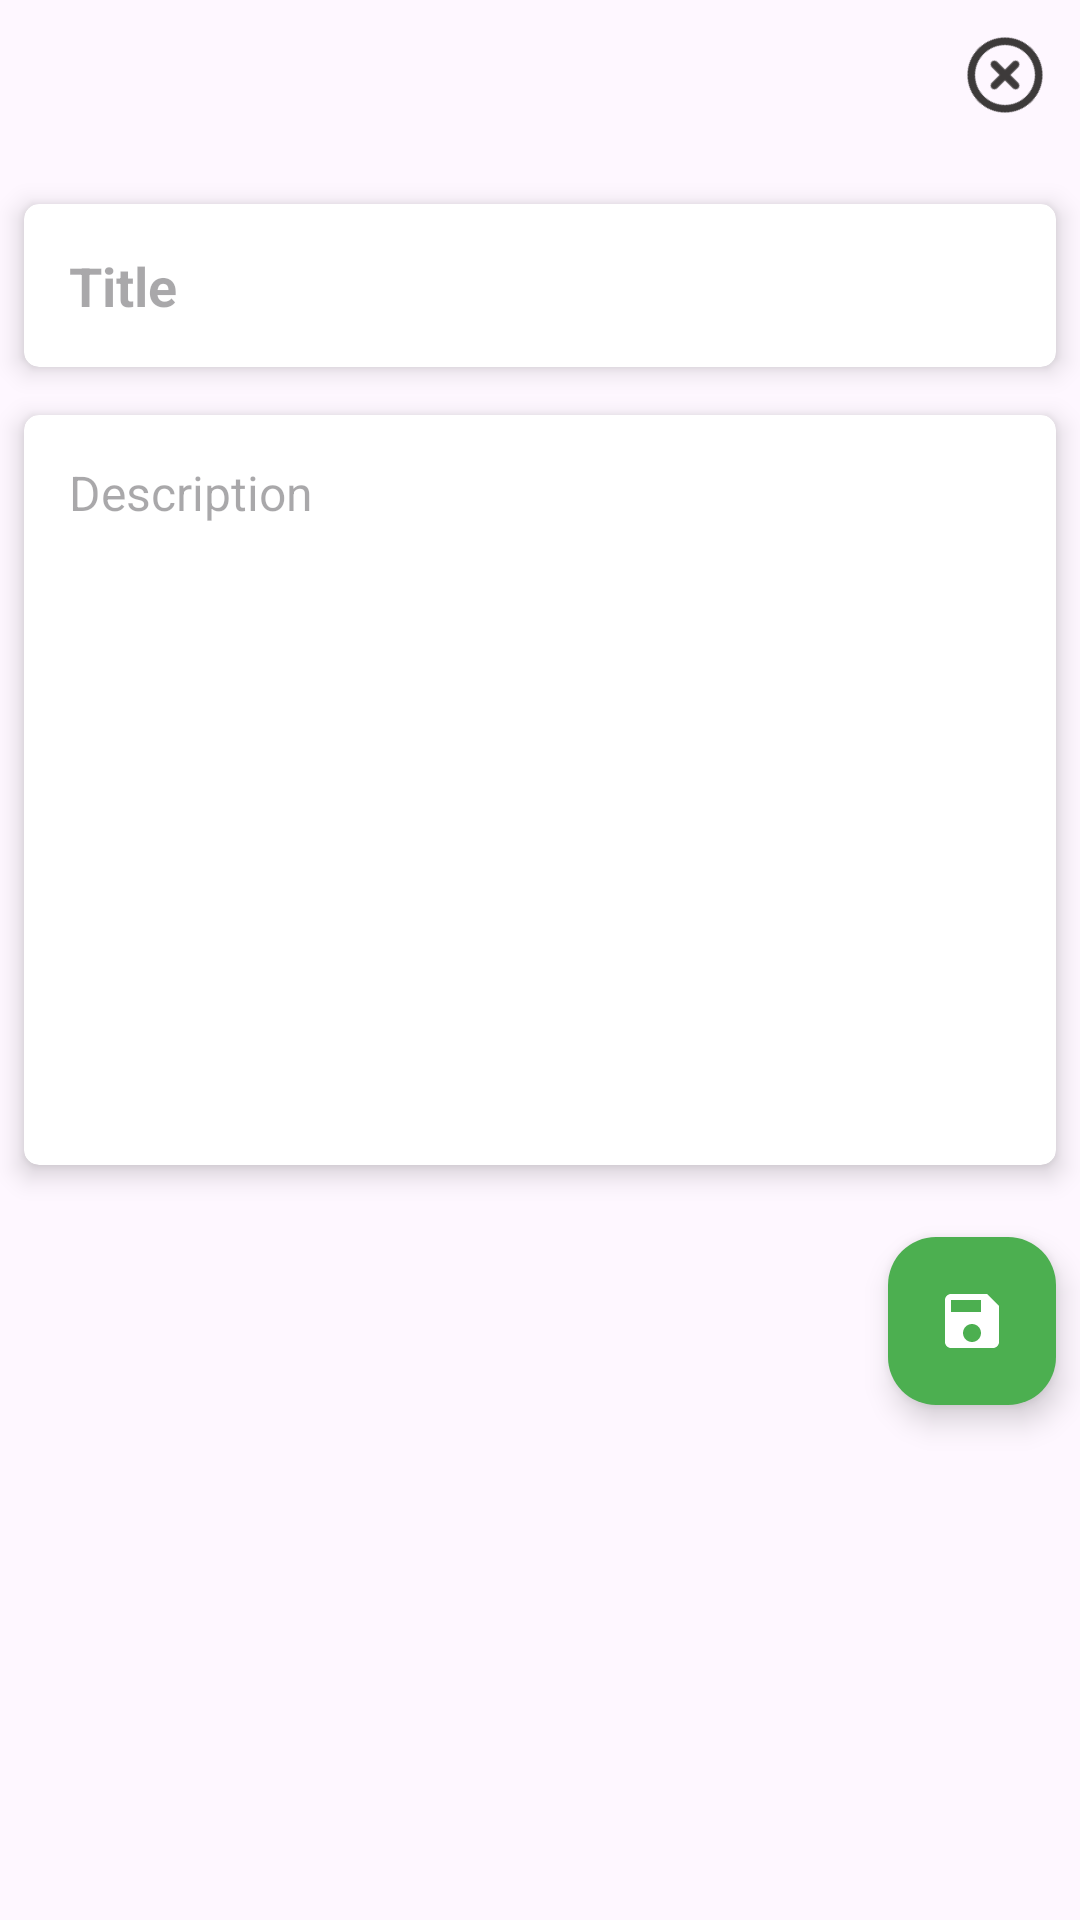

Named icons in this screenshot (1080*1920) and their centers, point (x, y):
save: point (972, 1321)
